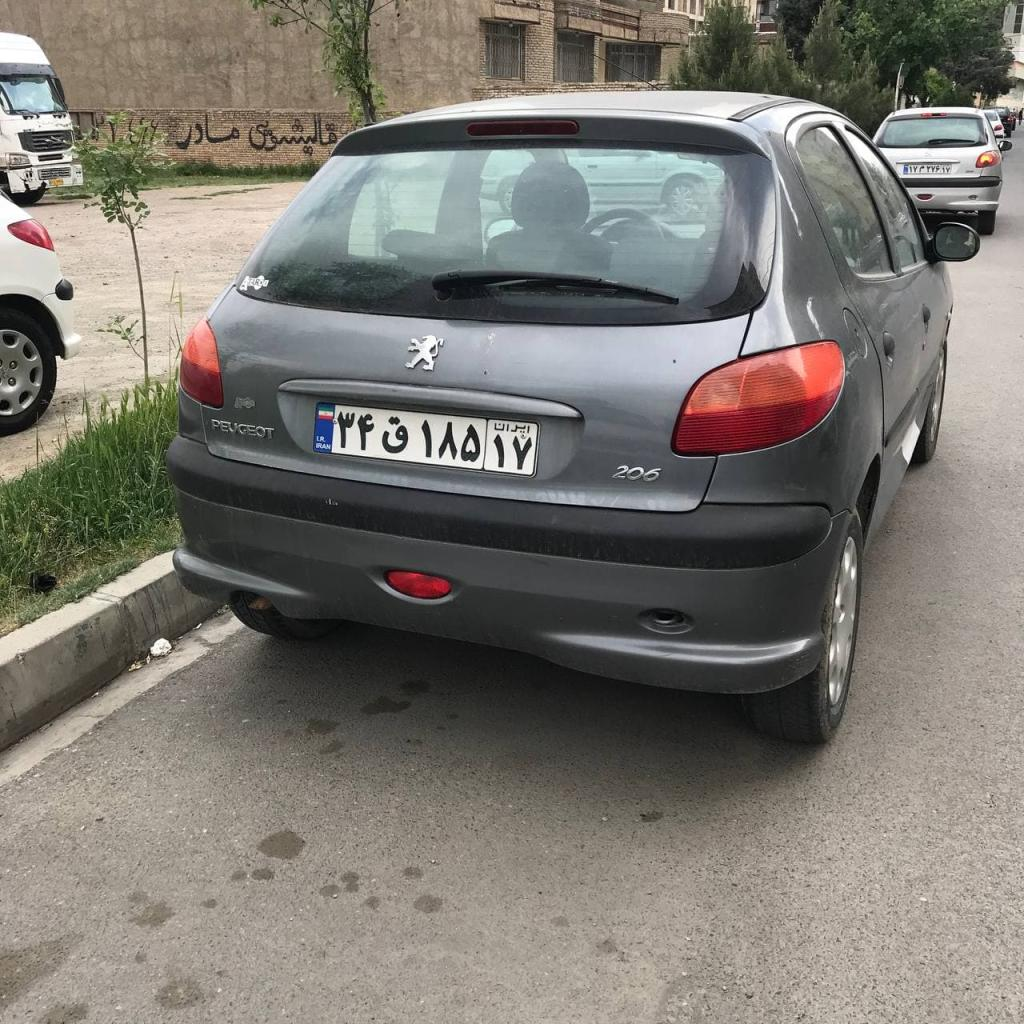Plates: (312, 403, 539, 476)
